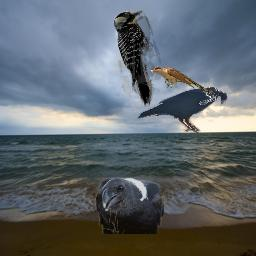Crow: (136, 86, 228, 134), (95, 177, 164, 234)
Cuckoo: (149, 66, 213, 94)
Woodpecker: (113, 10, 161, 109)
